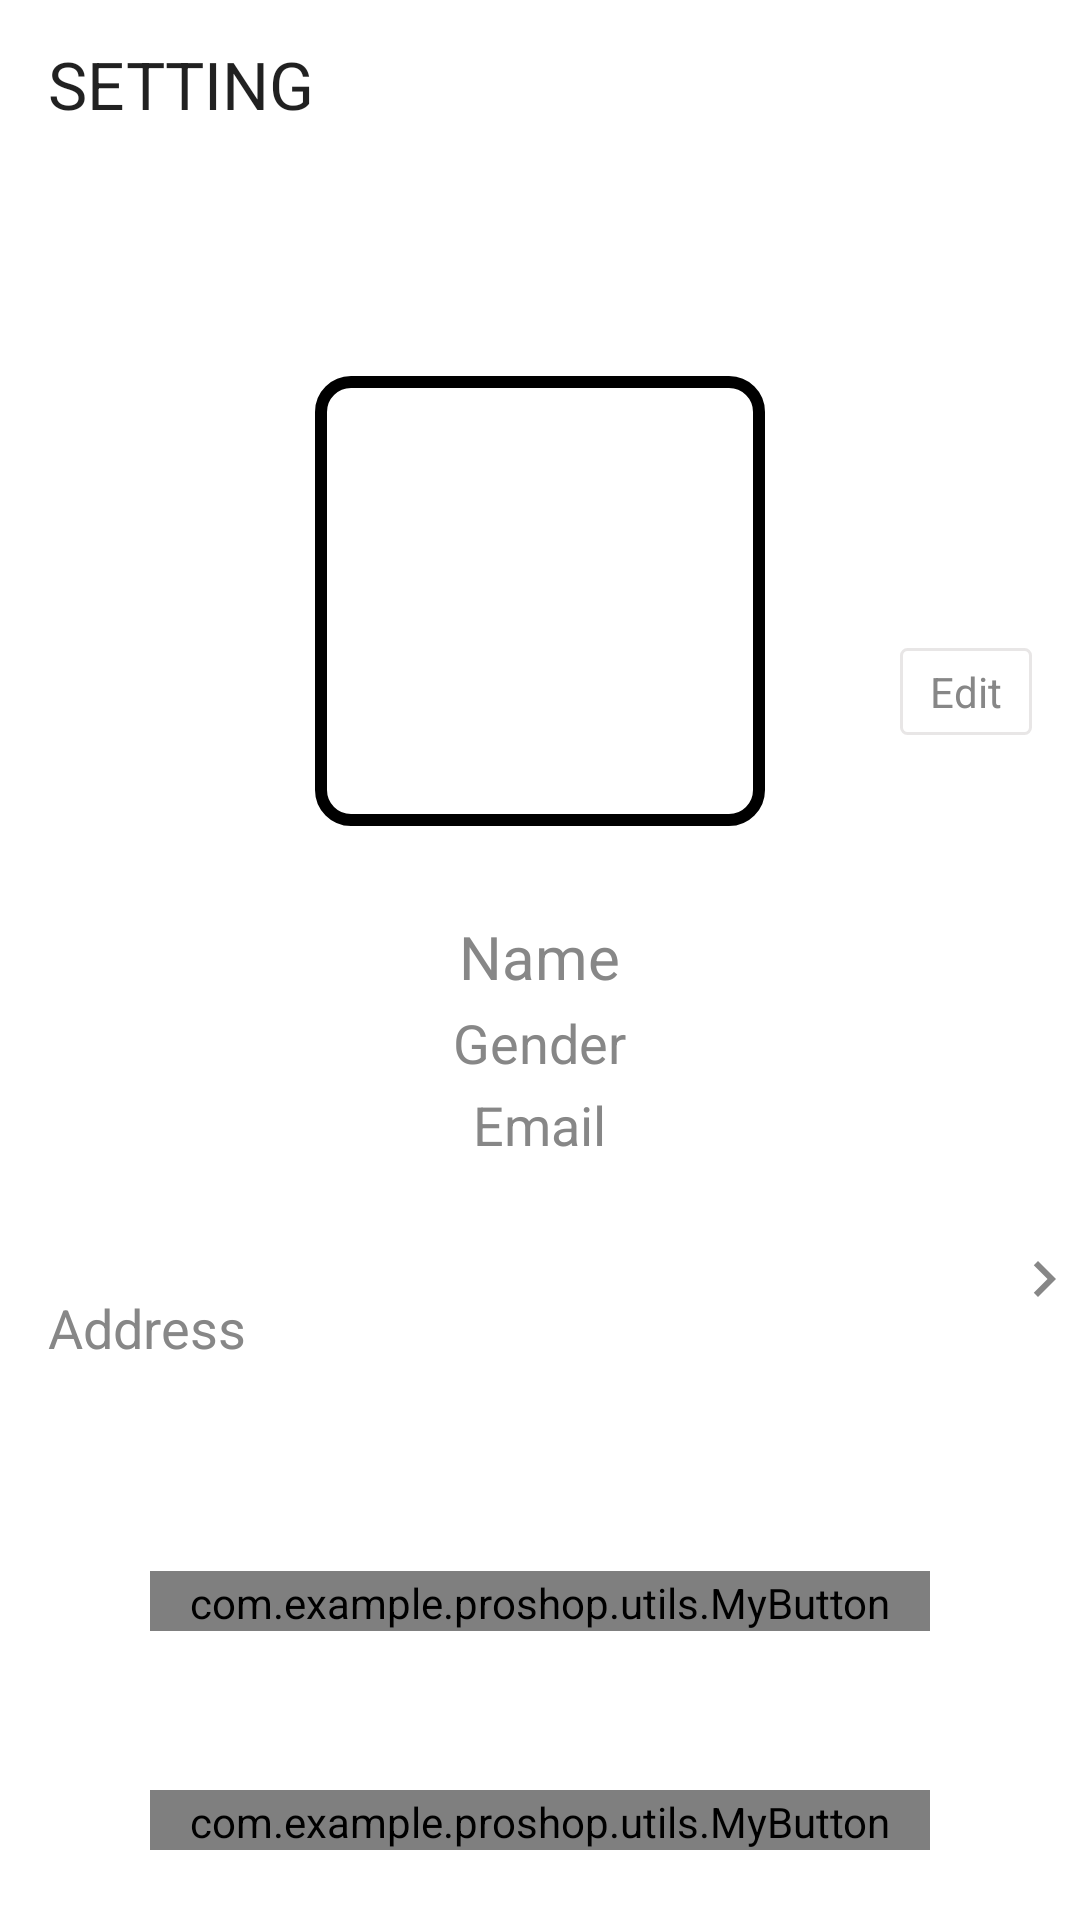

Screen size 1080 x 1920. Icon name, then its box in pixels as bbox=(x1, y1, x2, y2):
chevron right: bbox=(1034, 1261, 1056, 1297)
